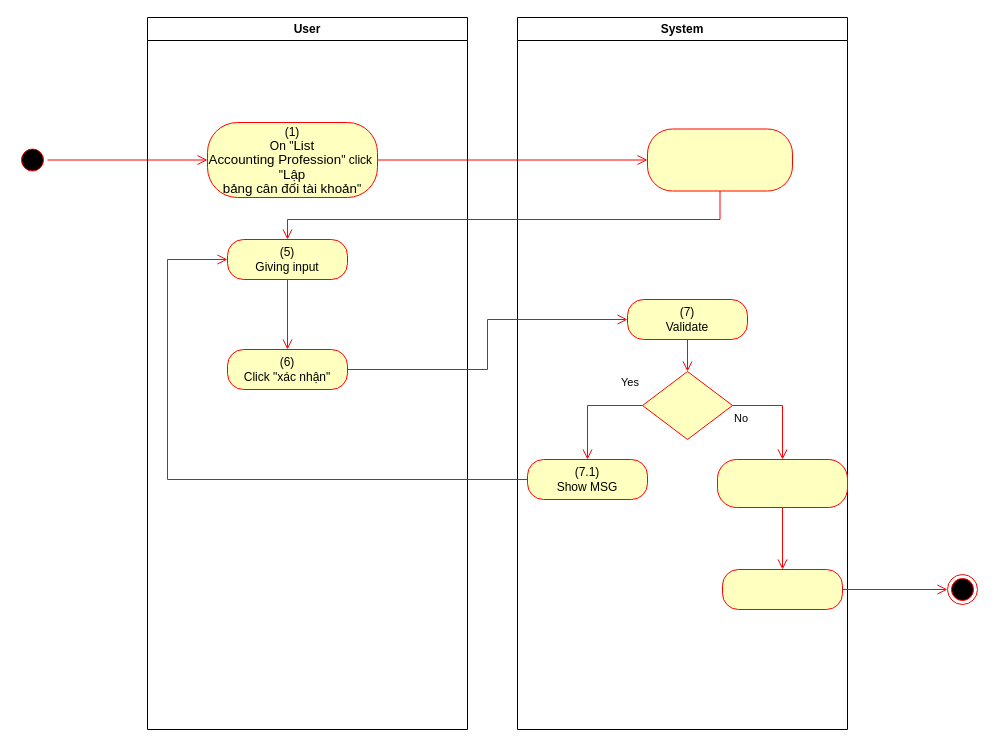
The diagram is 995 pixels wide and 747 high, and some of its shapes have lost their labels. Here are the shapes that lost their labels. From the top down, the centre of each, then its label:
the point at 719,159: (2) Load " Choose time frame form " screen
the point at 782,483: (7.2) Create "Account balance sheet"
the point at 782,589: (8) Export file
